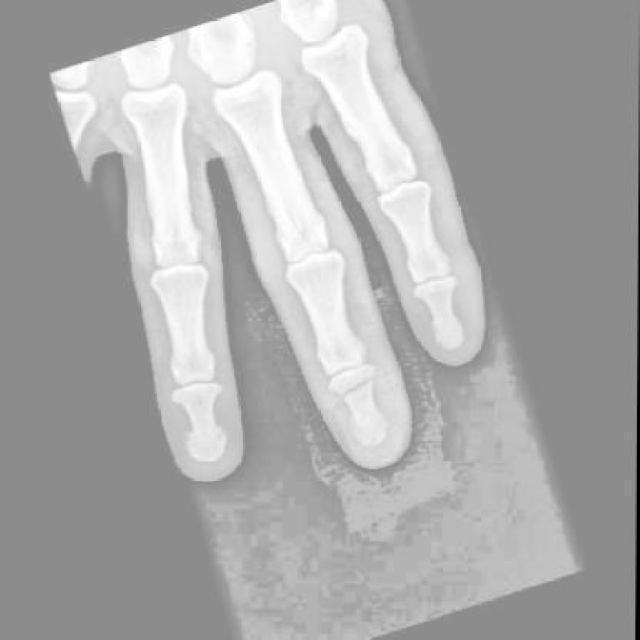Fracture: (329, 370, 374, 404)
